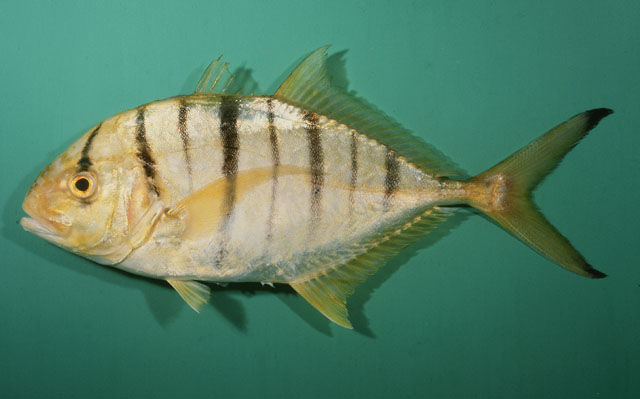fish: (20, 44, 615, 330)
